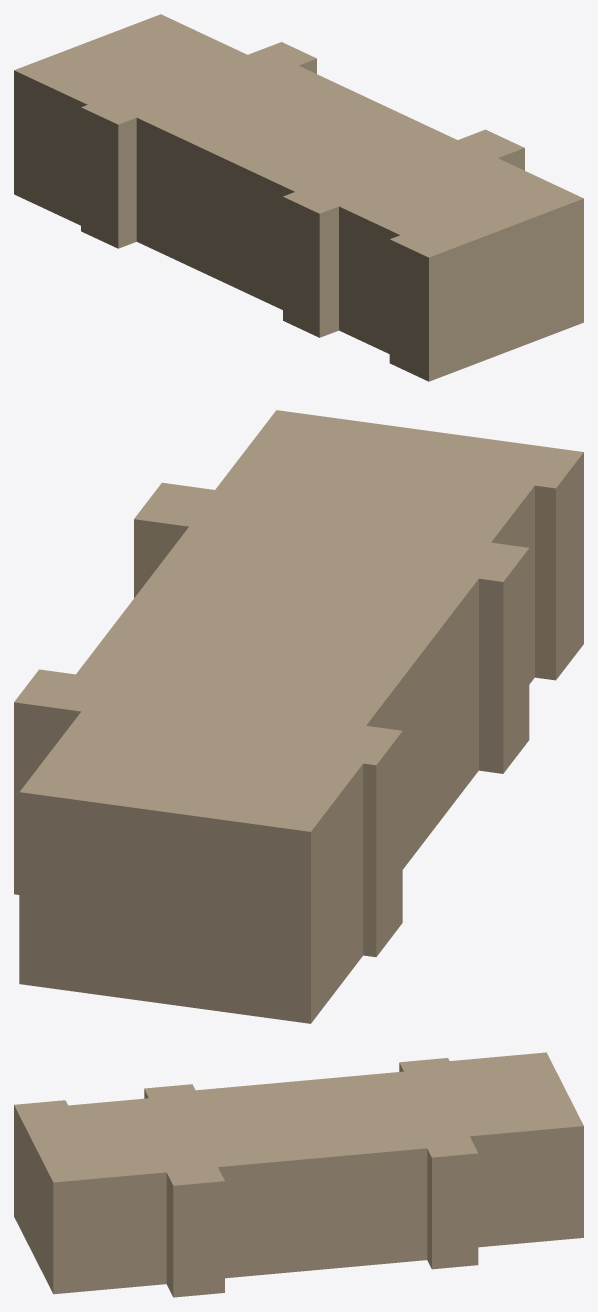
Rendered from bld_99867762.dae.
The picture shows the model from 3 angles, top to bottom: view 1: azimuth 30°, elevation 25°; view 2: azimuth 150°, elevation 25°; view 3: azimuth 270°, elevation 25°; orthographic projection. The views are drawn at different scales.
Parts seen in each view (by area): view 1: Park Court; view 2: Park Court; view 3: Park Court.
Part boxes in pixels (x1=…): Park Court: x1=14, y1=14, x2=583, y2=381; Park Court: x1=14, y1=410, x2=583, y2=1023; Park Court: x1=14, y1=1052, x2=583, y2=1297.
Size of the model in its own units: 20.48 by 36.98 by 8.
